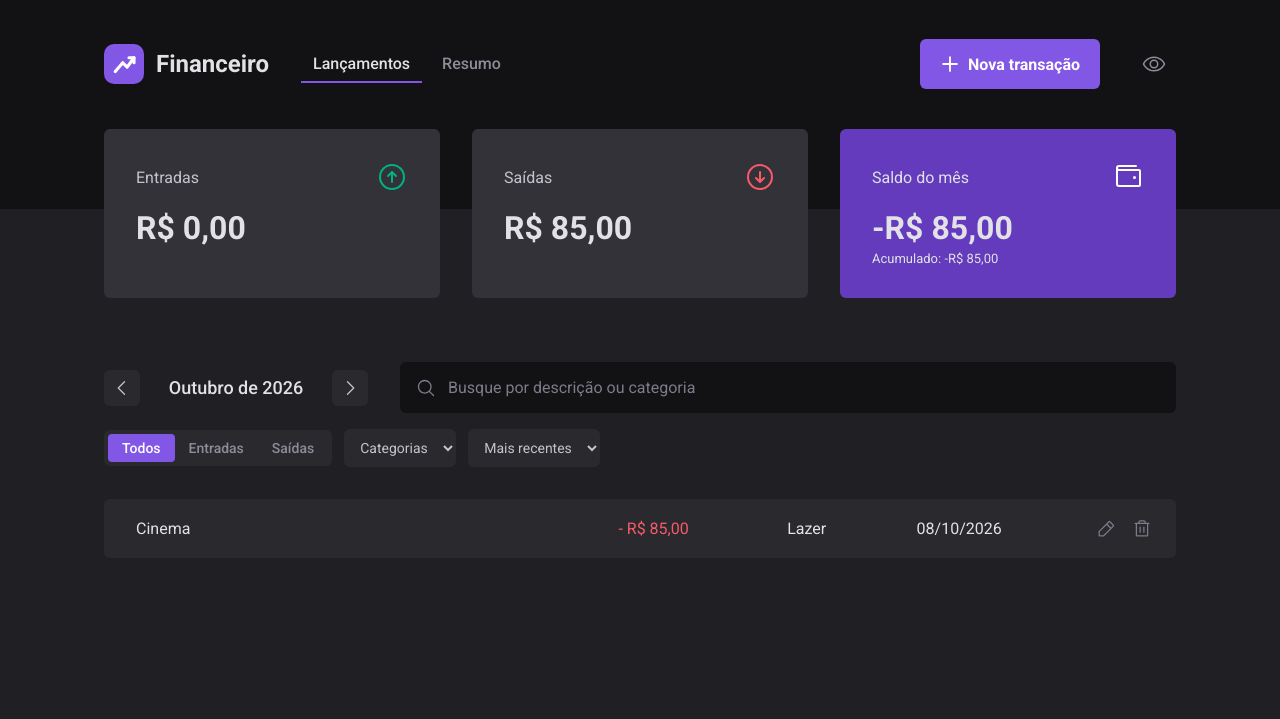
Financeiro › Resumo: define um limite e vê a barra; lista o fixo e para de repetir
Click the link "Resumo" at (472, 63), box [442, 54, 501, 72]
(page scrolled)
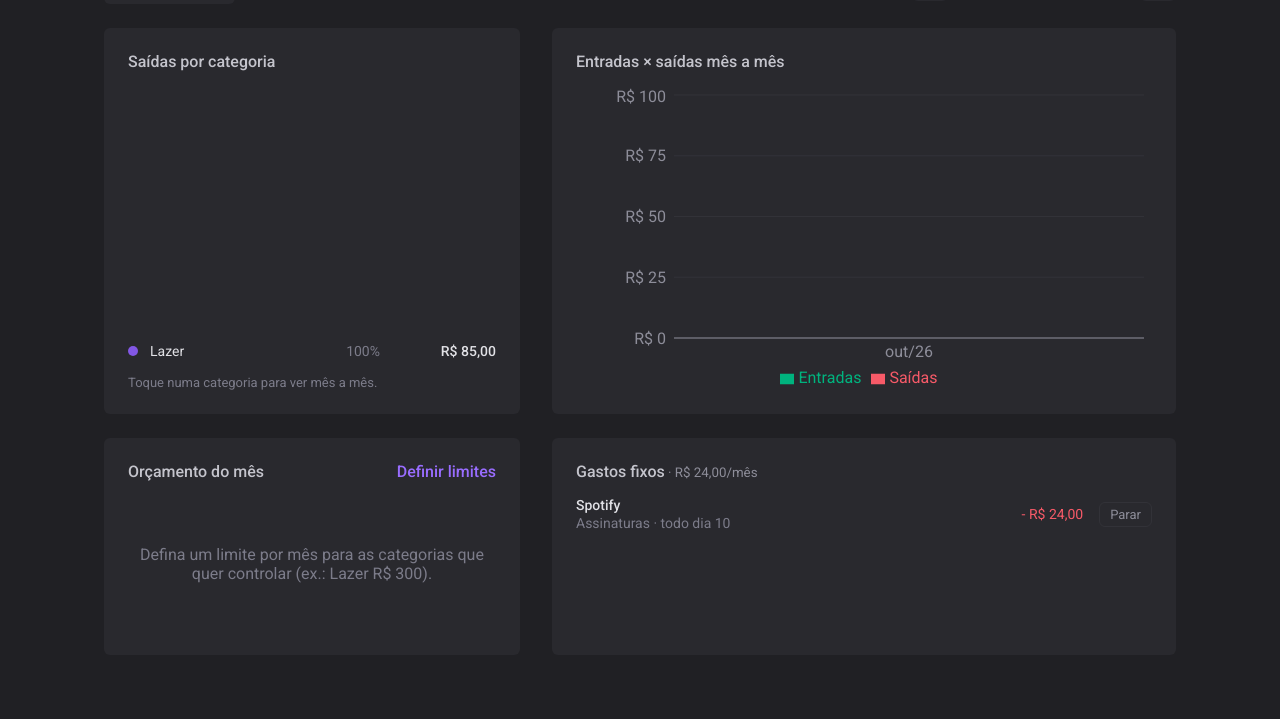
Click the button "Definir limites" at (446, 472), box [397, 462, 496, 481]
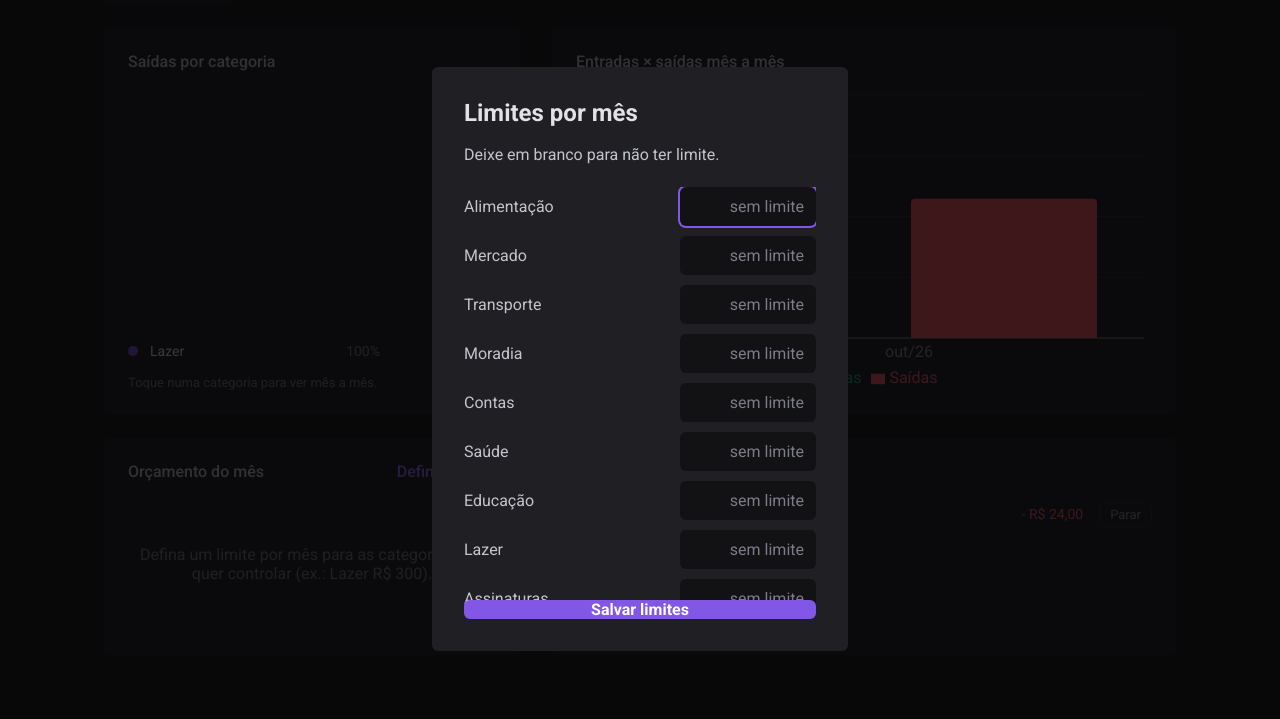
Type "100" into the field named "Limite de Lazer" at (748, 550), box [680, 530, 816, 569]
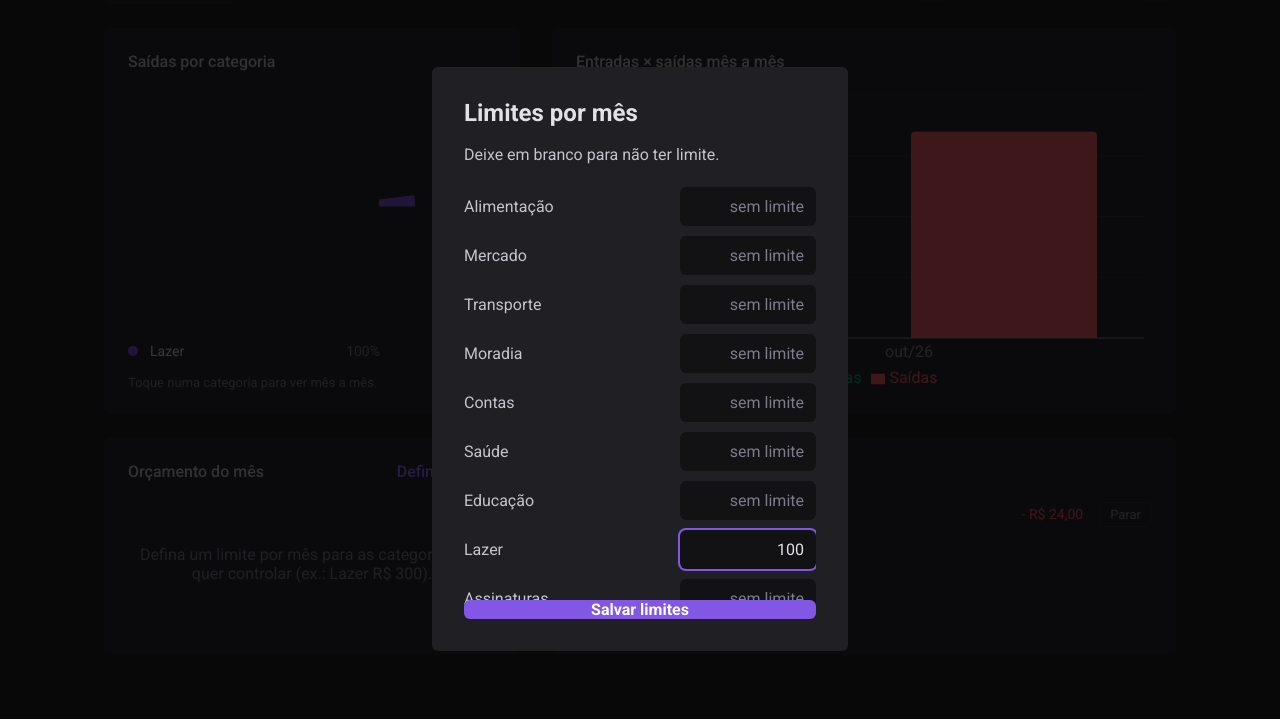
Click the button "Salvar limites" at (640, 610), box [464, 600, 816, 619]
(page scrolled)
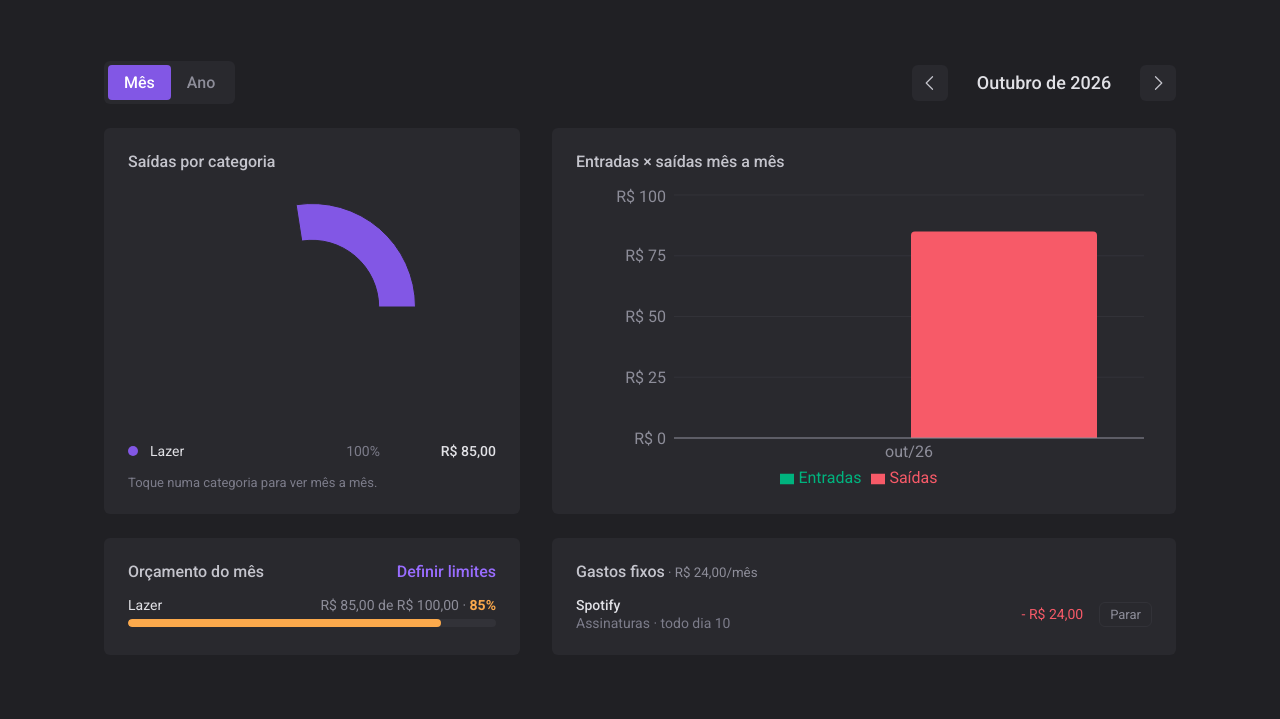
Expected: the text "Spotify" is shown, [576, 597, 620, 613]
Click the button with aria-label "Parar de repetir Spotify" at (1126, 614), box [1099, 602, 1152, 626]
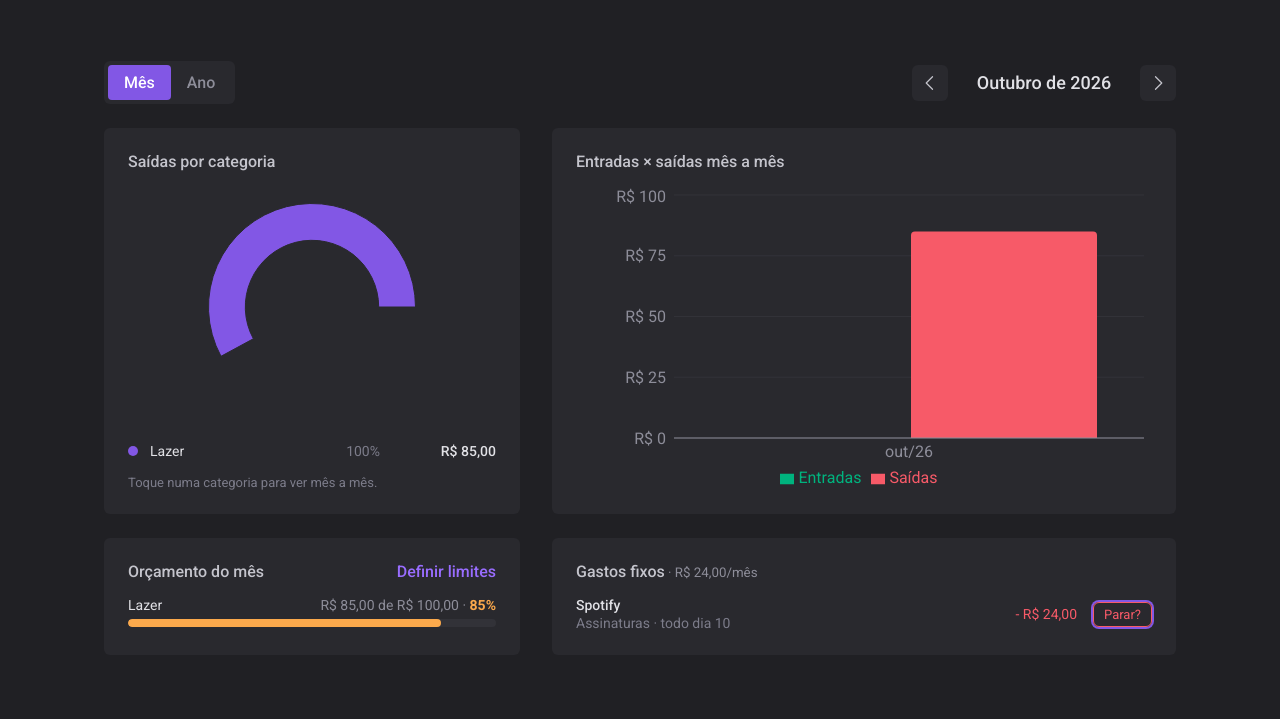
Click the button "Parar?" at (1122, 614), box [1093, 602, 1152, 626]
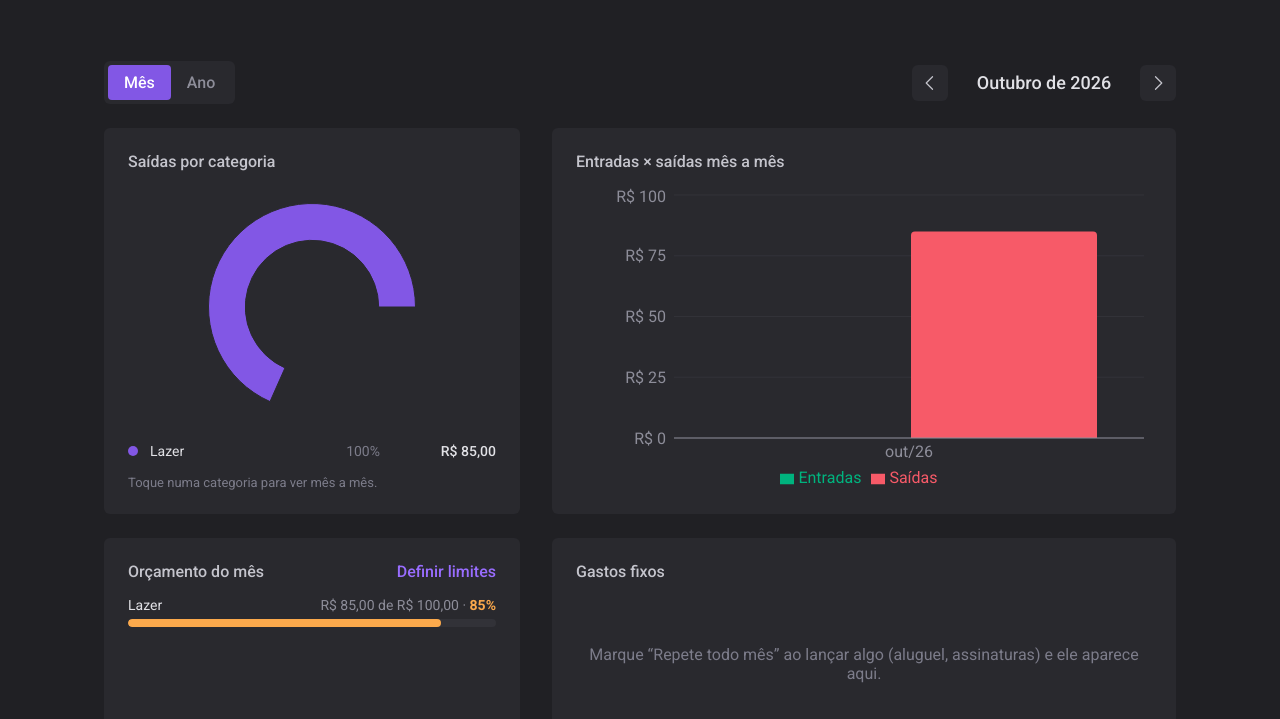
Expected: the text "Spotify" is gone
